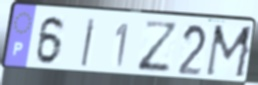1: (113, 22, 129, 68)
2: (175, 22, 210, 76)
6: (35, 14, 67, 66)
I: (79, 17, 97, 69)
M: (203, 23, 256, 81)
Z: (136, 19, 181, 74)
